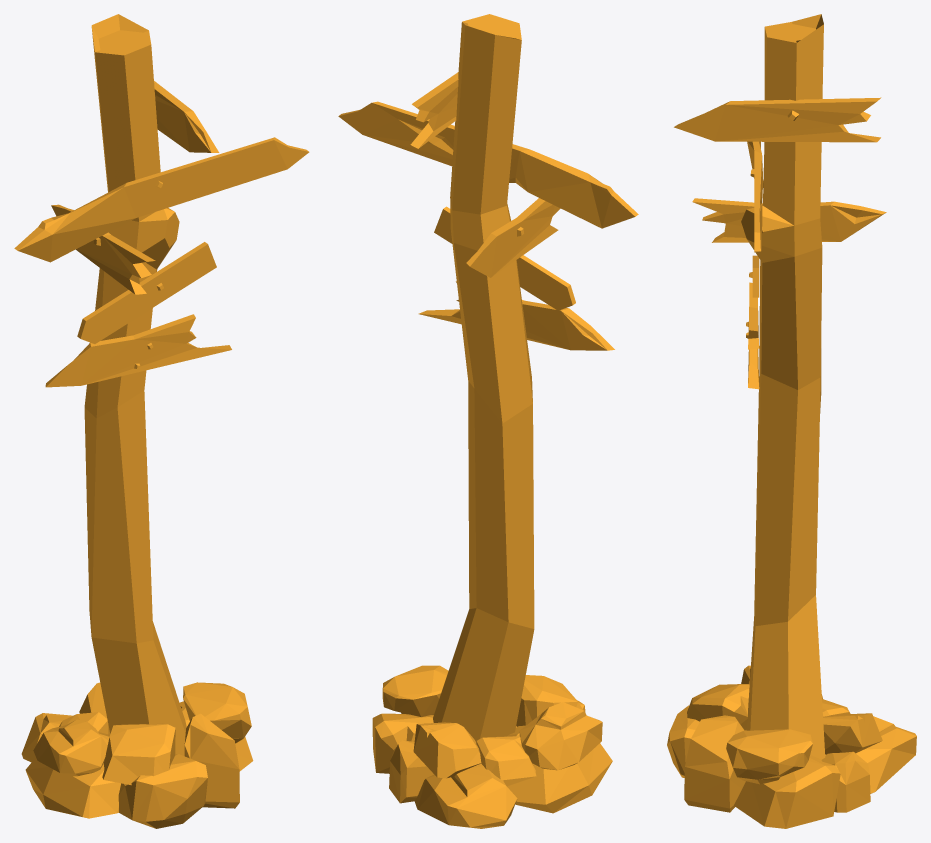
Rendered from SM_Signpost_C_Fantasy.fbx.
The picture shows the model from 3 angles, left to right: view 1: azimuth 30°, elevation 25°; view 2: azimuth 150°, elevation 25°; view 3: azimuth 270°, elevation 25°; orthographic projection.
Parts seen in each view (by area): view 1: signpost-c-fantasy; view 2: signpost-c-fantasy; view 3: signpost-c-fantasy.
Boxes of the visible parts, x1,y1,x2,y2 form: signpost-c-fantasy: (14, 14, 309, 828); signpost-c-fantasy: (338, 14, 638, 828); signpost-c-fantasy: (667, 14, 916, 828).
Bounding box in the file's own units: 0.9493 × 2.37 × 0.7033.
